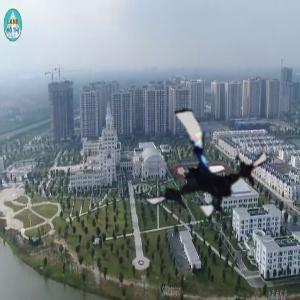drone: (129, 96, 270, 237)
